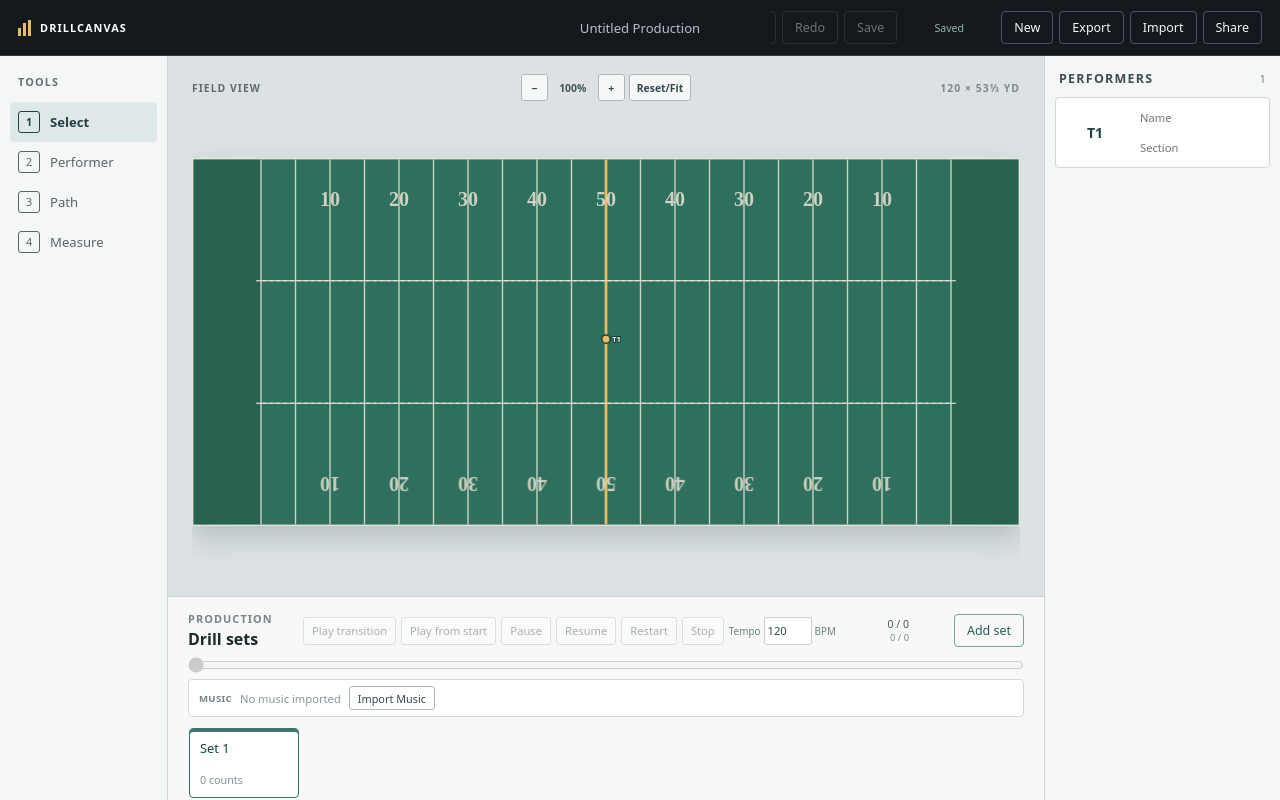
project persistence › marks the project dirty again after an explicit Save
The width and height of the screenshot is (1280, 800).
Replace the text in the field named "Production name" with "First Edit" at x=640, y=28, box [510,12,770,42]
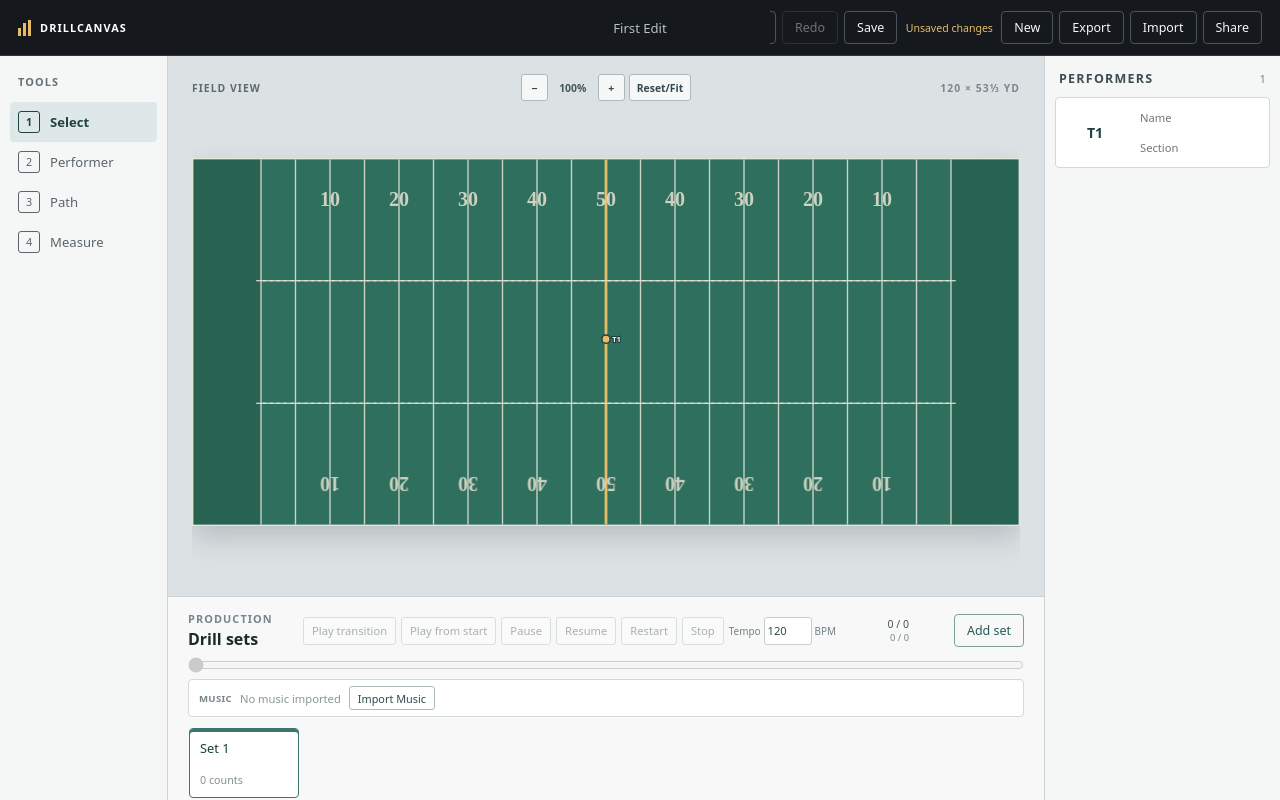
Click the button "Save".
click(871, 28)  # box [844,11,897,44]
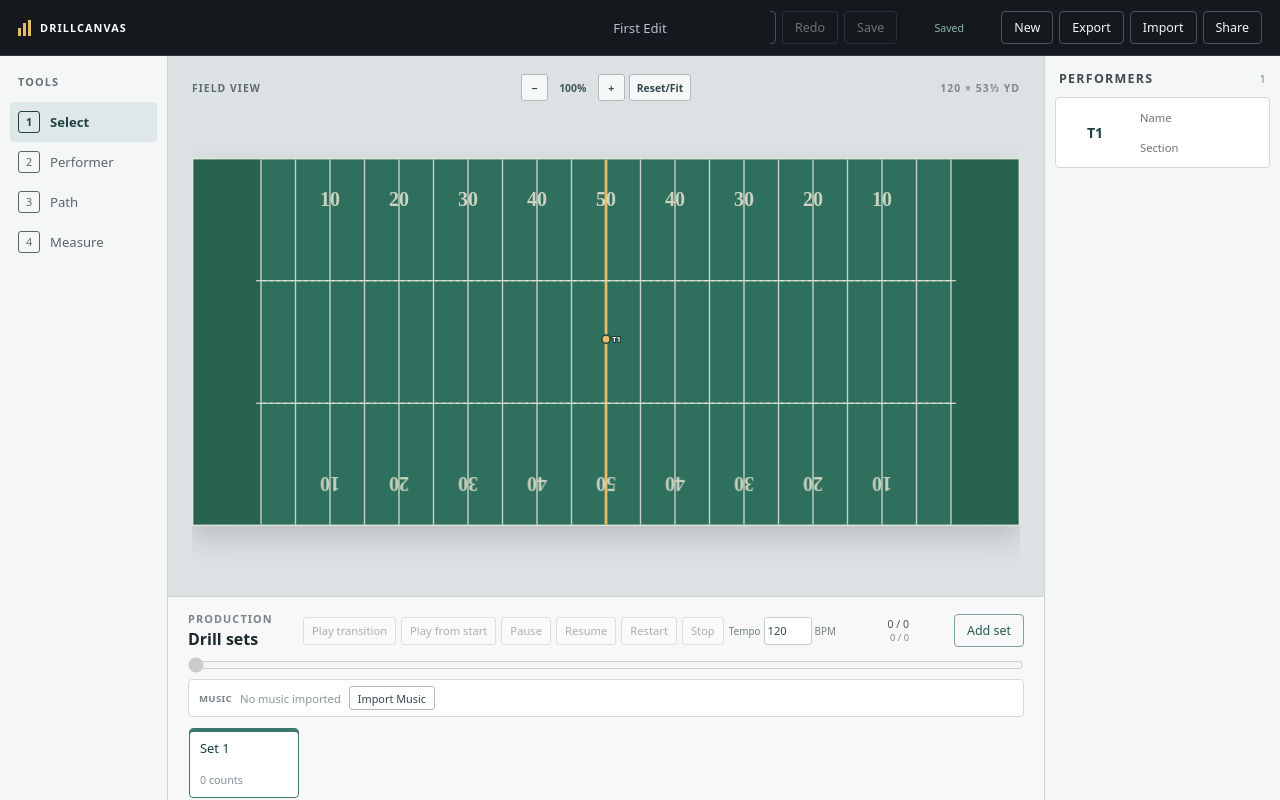
Expected: the button "Save" is disabled, [844,11,897,44]
Replace the text in the field named "Production name" with "Second Edit" at x=640, y=28, box [510,12,770,42]
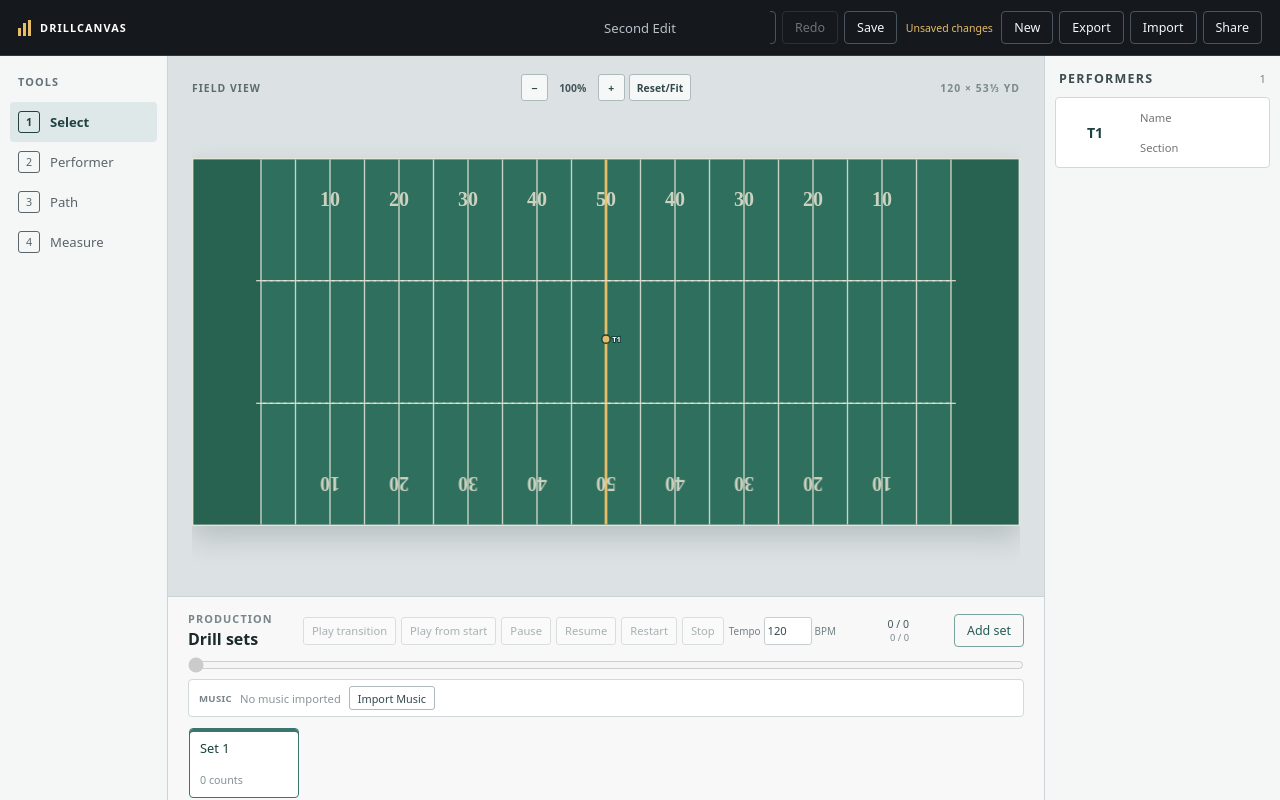
Expected: the button "Save" is enabled, [844,11,897,44]
Expected: the text named "Save status" reads "Unsaved changes", [906,20,993,34]
